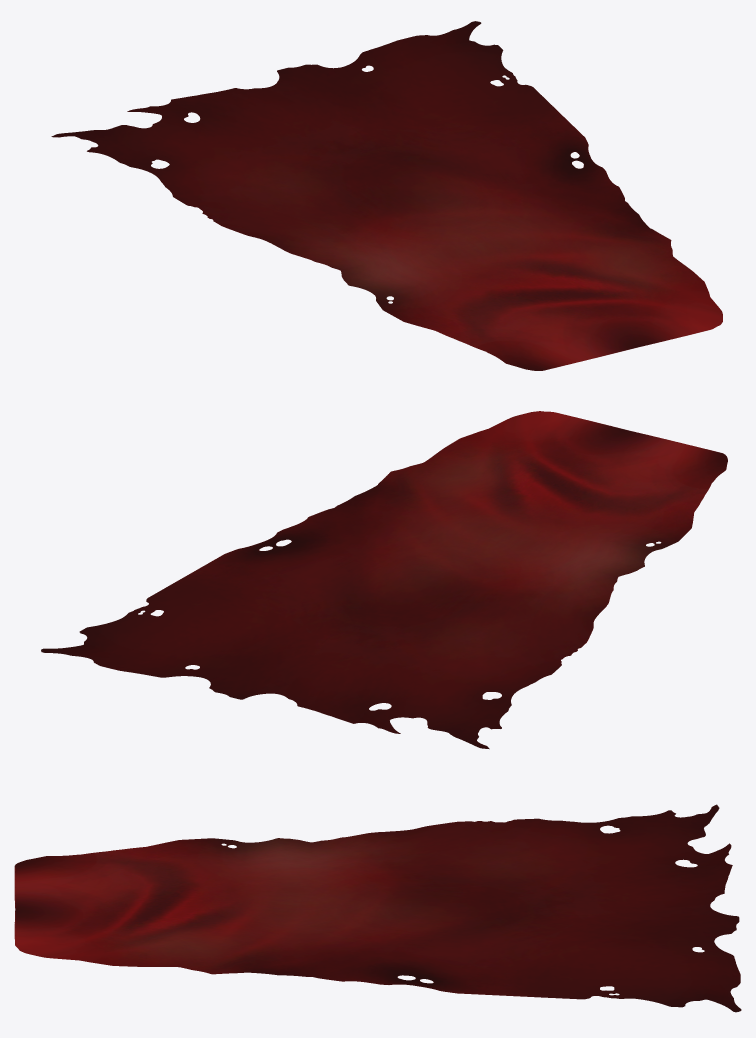
Rendered from Cape_done.fbx.
3 views of the same model, one above another, from view 1: azimuth 30°, elevation 25°; view 2: azimuth 150°, elevation 25°; view 3: azimuth 270°, elevation 25° (orthographic). The views are drawn at different scales.
Visible parts, largest first — view 1: pPlane1; view 2: pPlane1; view 3: pPlane1.
Part boxes in pixels (bbox=[...]): pPlane1: bbox=[51, 21, 722, 370]; pPlane1: bbox=[41, 411, 727, 749]; pPlane1: bbox=[14, 804, 741, 1012].
Size of the model in its own units: 114 by 0 by 152.
1 material, 1 textured.
